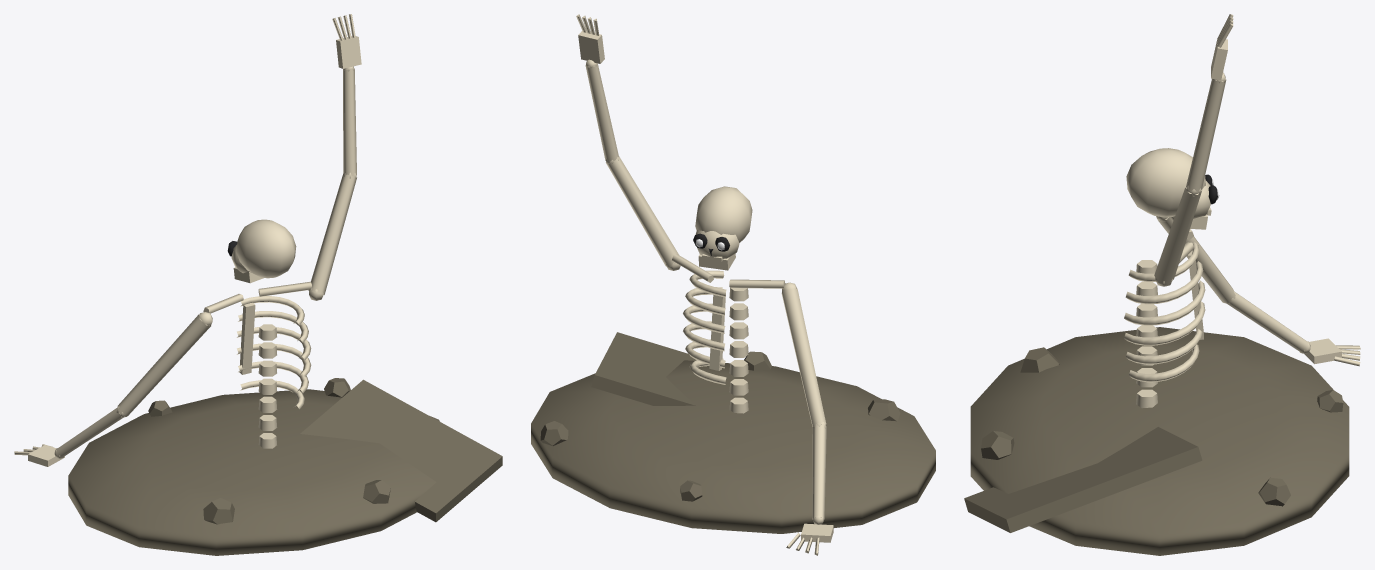
Rendered from GIANT_SKELETON.glb.
3 views of the same model, side by side, from view 1: azimuth 30°, elevation 25°; view 2: azimuth 150°, elevation 25°; view 3: azimuth 270°, elevation 25° (orthographic). The views are drawn at different scales.
Visible parts, largest first — view 1: concreteProp_2, bone_0; view 2: concreteProp_2, bone_0; view 3: concreteProp_2, bone_0.
Boxes of the visible parts, x1,y1,x2,y2 form: concreteProp_2: (68,378,502,555); bone_0: (14,14,361,466); concreteProp_2: (531,332,935,533); bone_0: (576,14,833,555); concreteProp_2: (964,327,1349,555); bone_0: (1124,14,1360,408).
Bounding box in the file's own units: 12.7 × 15.11 × 10.34.
